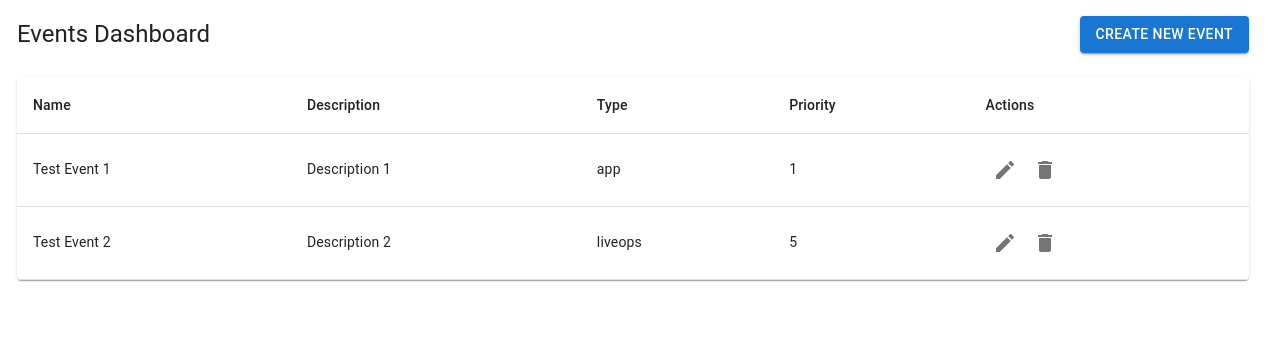
Test: EventList › displays error when deletion fails
This screenshot has width=1267, height=363.
expect the text "Test Event 1" is shown: met, box [17,133,291,206]
Click the 3rd button at x=1045, y=170, box [1025,150,1065,190]
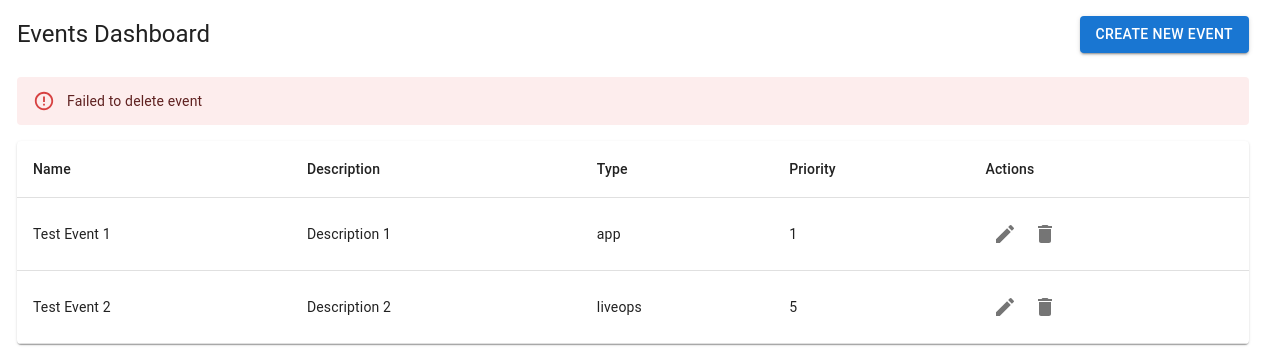
expect the text "Failed to delete event" is shown: met, box [67,92,202,108]
